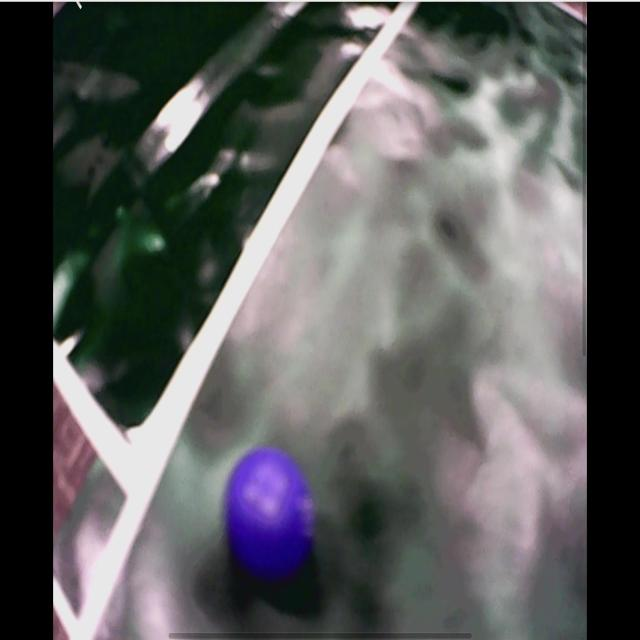ball: (229, 447, 317, 580)
